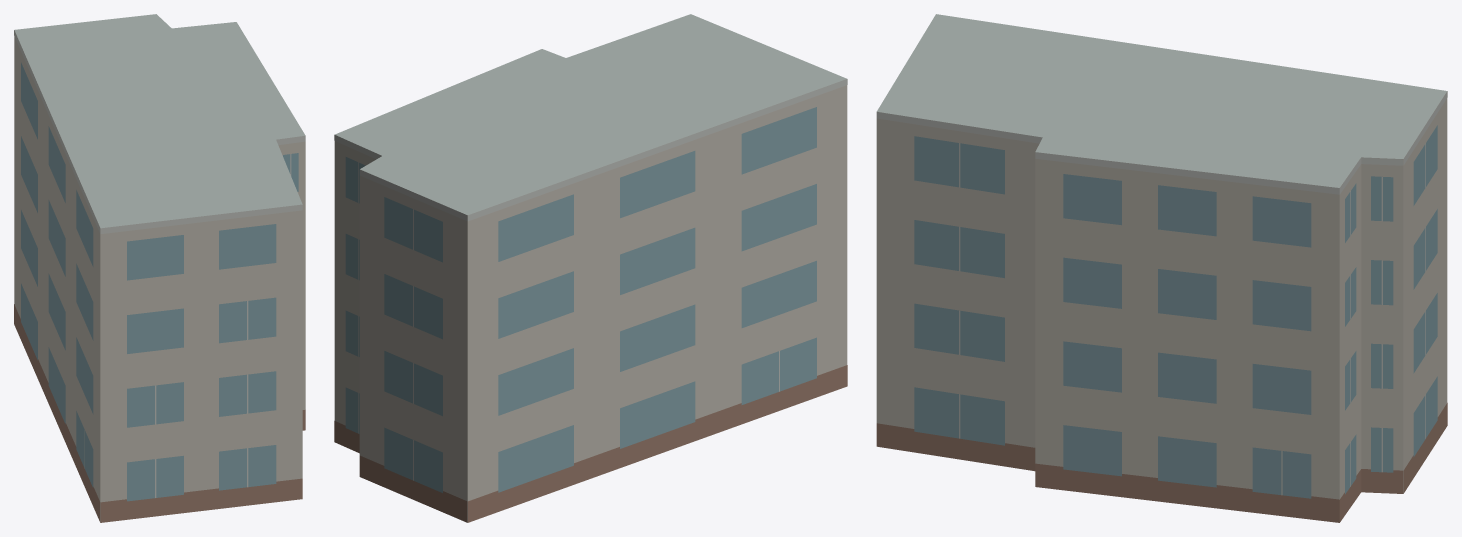
File: survey-upis-32828342.glb
3 renders of one model, left to right at view 1: azimuth 30°, elevation 25°; view 2: azimuth 150°, elevation 25°; view 3: azimuth 270°, elevation 25°, orthographic. The views are drawn at different scales.
Parts seen in each view (by area): view 1: survey-upis-32828342.tmp; view 2: survey-upis-32828342.tmp; view 3: survey-upis-32828342.tmp.
Boxes of the visible parts, x1,y1,x2,y2 form: survey-upis-32828342.tmp: (14, 14, 305, 522); survey-upis-32828342.tmp: (334, 14, 847, 522); survey-upis-32828342.tmp: (876, 14, 1447, 522).
Bounding box in the file's own units: 13.61 × 12.2 × 18.86.
